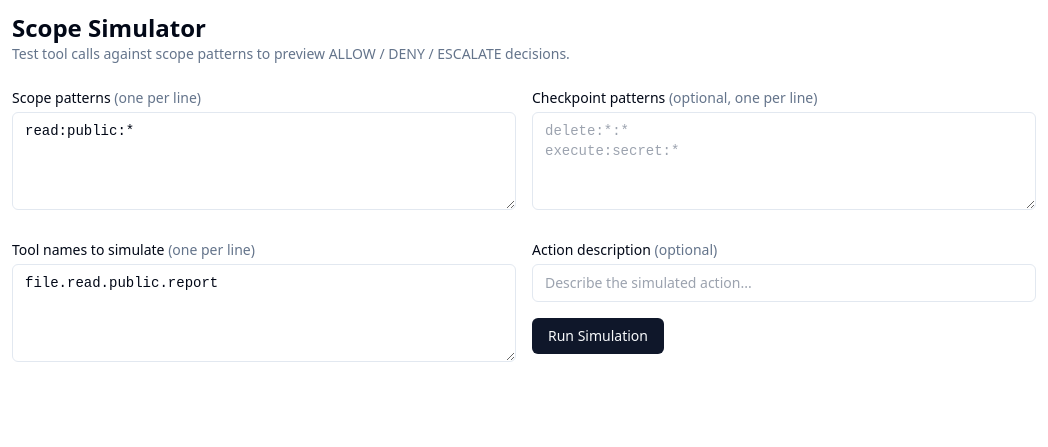
ScopeSimulator › displays error message on API failure
Click the button "Run Simulation".
click(598, 336)  # box [532,318,664,354]
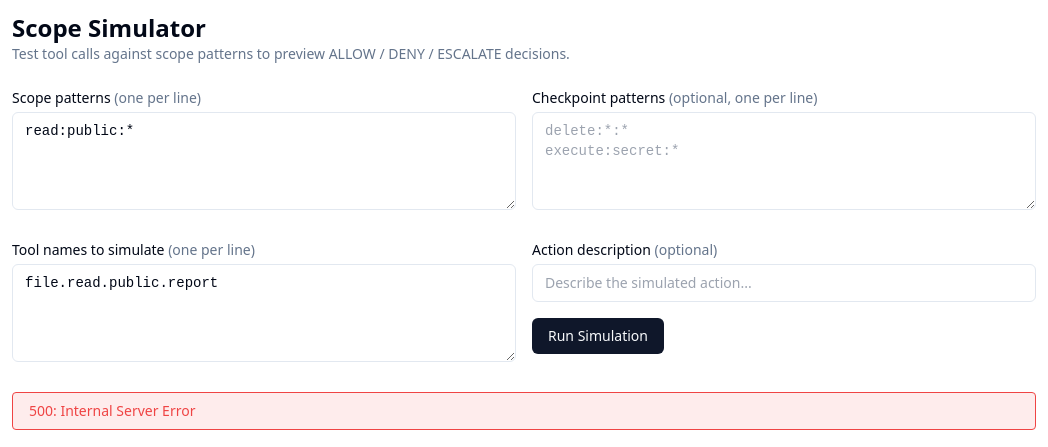
Expected: the text "500: Internal Server Error" is shown, [12,392,1036,430]
